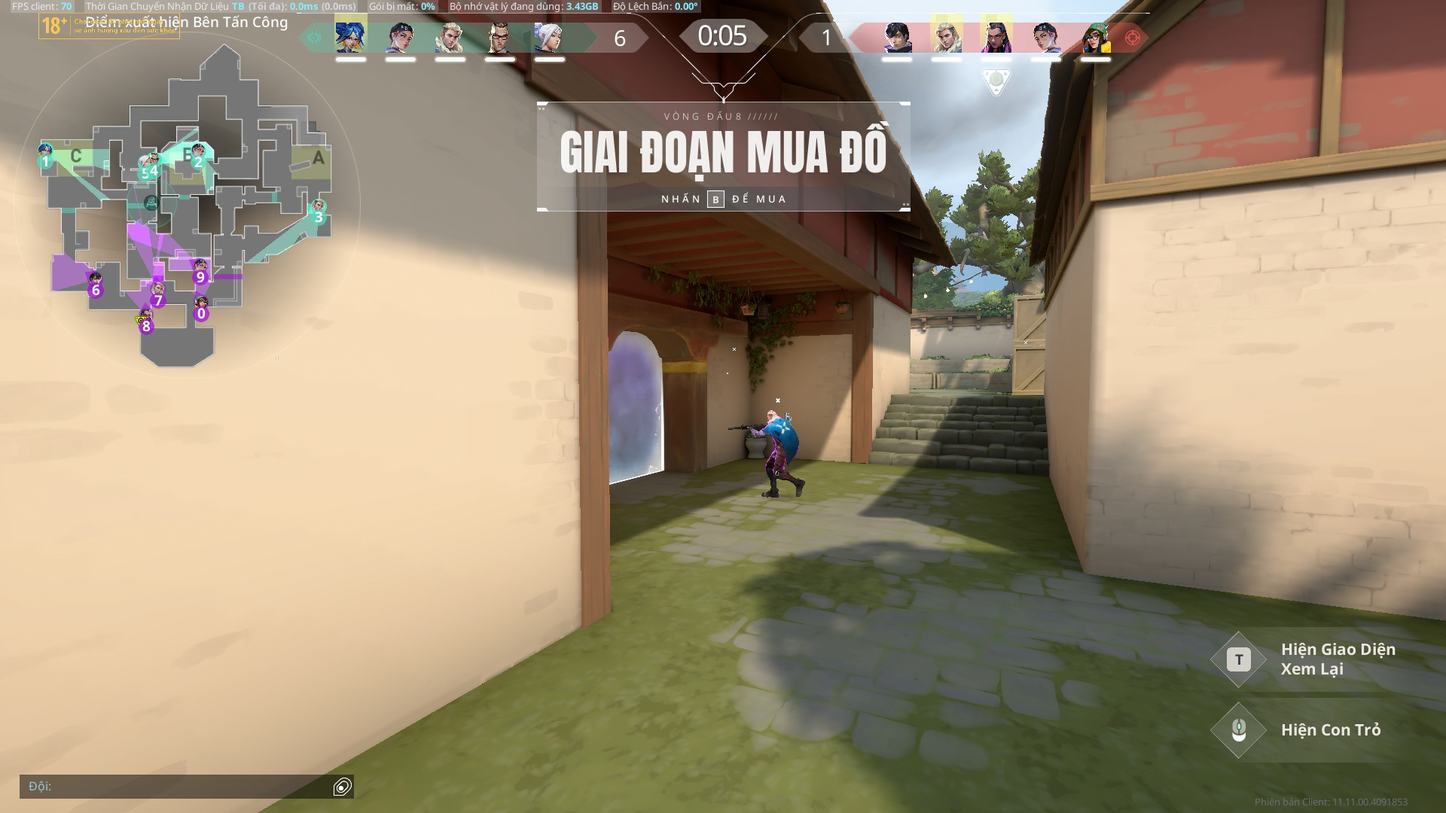body: (767, 418, 795, 443)
head: (765, 409, 779, 421)
